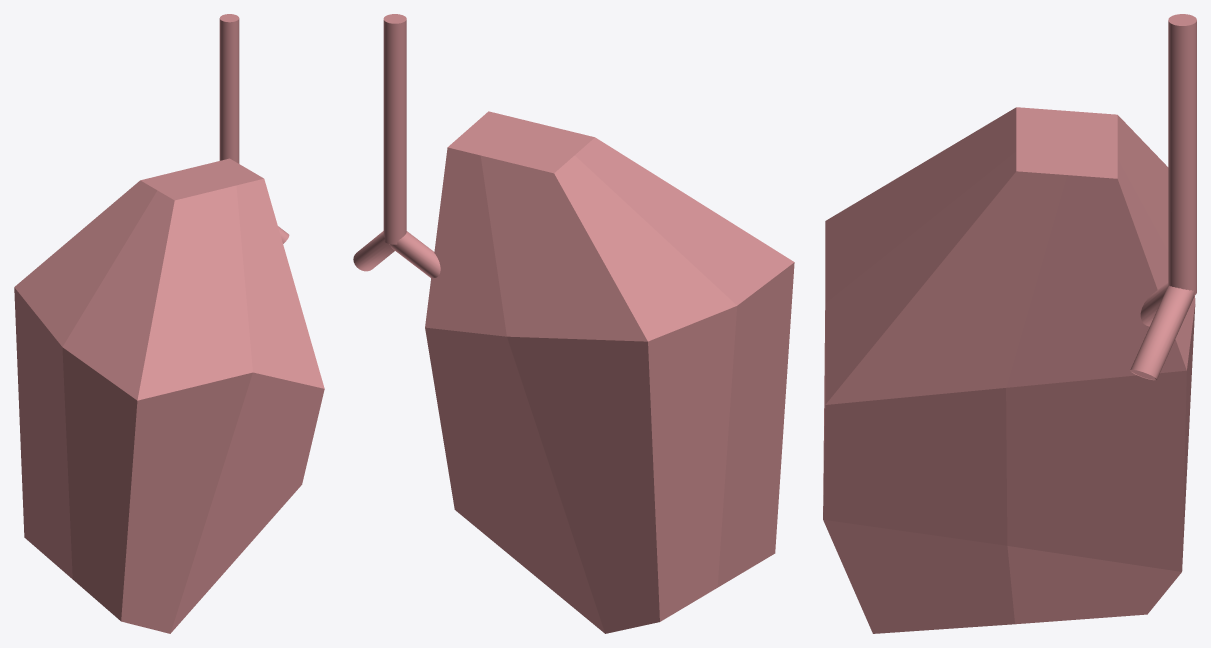
Rendered from kid_healthy_lung.glb.
The picture shows the model from 3 angles, left to right: view 1: azimuth 30°, elevation 25°; view 2: azimuth 150°, elevation 25°; view 3: azimuth 270°, elevation 25°; orthographic projection. The views are drawn at different scales.
Visible parts, largest first — view 1: kid_healthy_lung; view 2: kid_healthy_lung; view 3: kid_healthy_lung.
Boxes of the visible parts, x1,y1,x2,y2 form: kid_healthy_lung: [14, 14, 324, 633]; kid_healthy_lung: [353, 14, 794, 633]; kid_healthy_lung: [823, 14, 1196, 633].
Bounding box in the file's own units: 0.2996 × 0.5222 × 0.2418.
